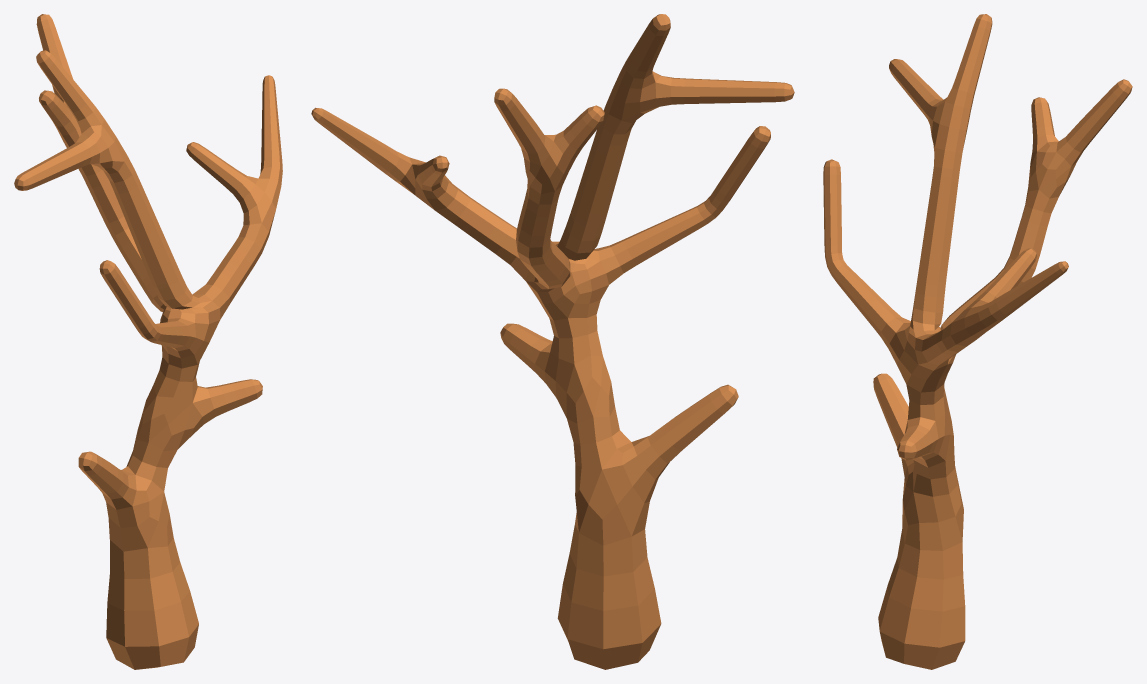
File: treeNoLeaves2.fbx
3 views of the same model, side by side, from view 1: azimuth 30°, elevation 25°; view 2: azimuth 150°, elevation 25°; view 3: azimuth 270°, elevation 25° (orthographic). The views are drawn at different scales.
Visible parts, largest first — view 1: Plane; view 2: Plane; view 3: Plane.
Part boxes in pixels (bbox=[...]): Plane: bbox=[14, 14, 282, 669]; Plane: bbox=[311, 14, 794, 669]; Plane: bbox=[823, 14, 1132, 669].
Size of the model in its own units: 146 by 250 by 115.
